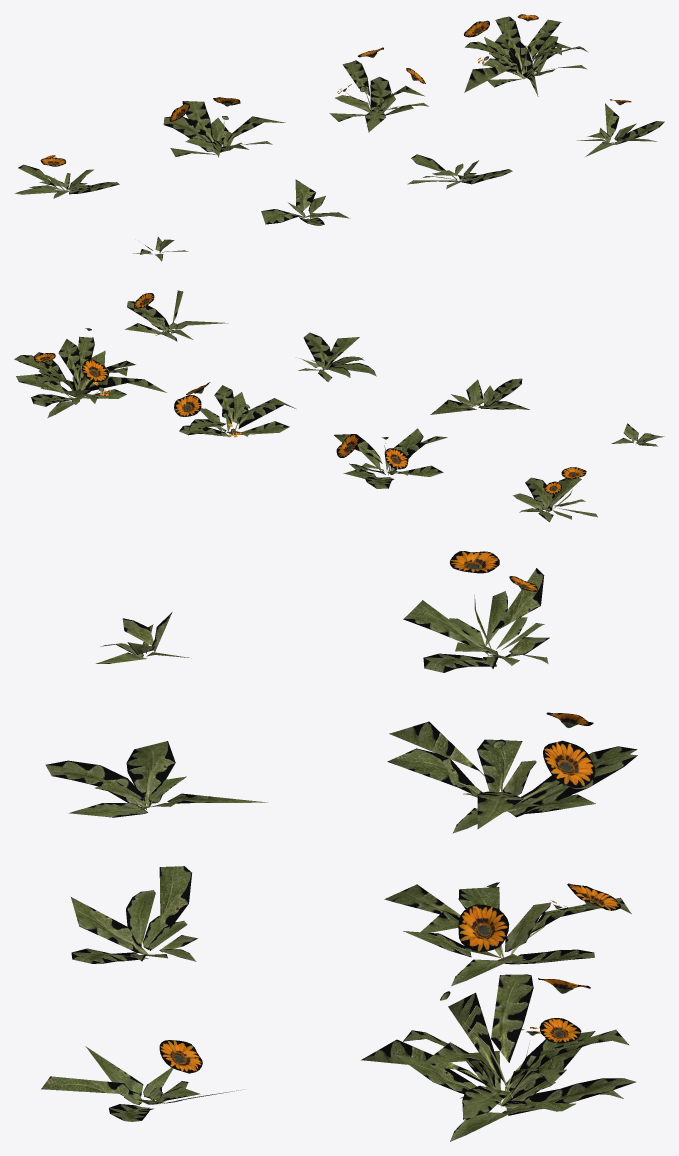
File: gazania.glb
3 views of the same model, one above another, from view 1: azimuth 30°, elevation 25°; view 2: azimuth 150°, elevation 25°; view 3: azimuth 270°, elevation 25° (orthographic). The views are drawn at different scales.
Visible parts, largest first — view 1: flower_gazania_a_LOD0; view 2: flower_gazania_a_LOD0; view 3: flower_gazania_a_LOD0.
Boxes of the visible parts, x1,y1,x2,y2 form: flower_gazania_a_LOD0: [14, 14, 664, 261]; flower_gazania_a_LOD0: [14, 290, 664, 522]; flower_gazania_a_LOD0: [41, 551, 637, 1141].
Size of the model in its own units: 1.48 by 0.1546 by 0.6785.
1 material, 1 textured.
